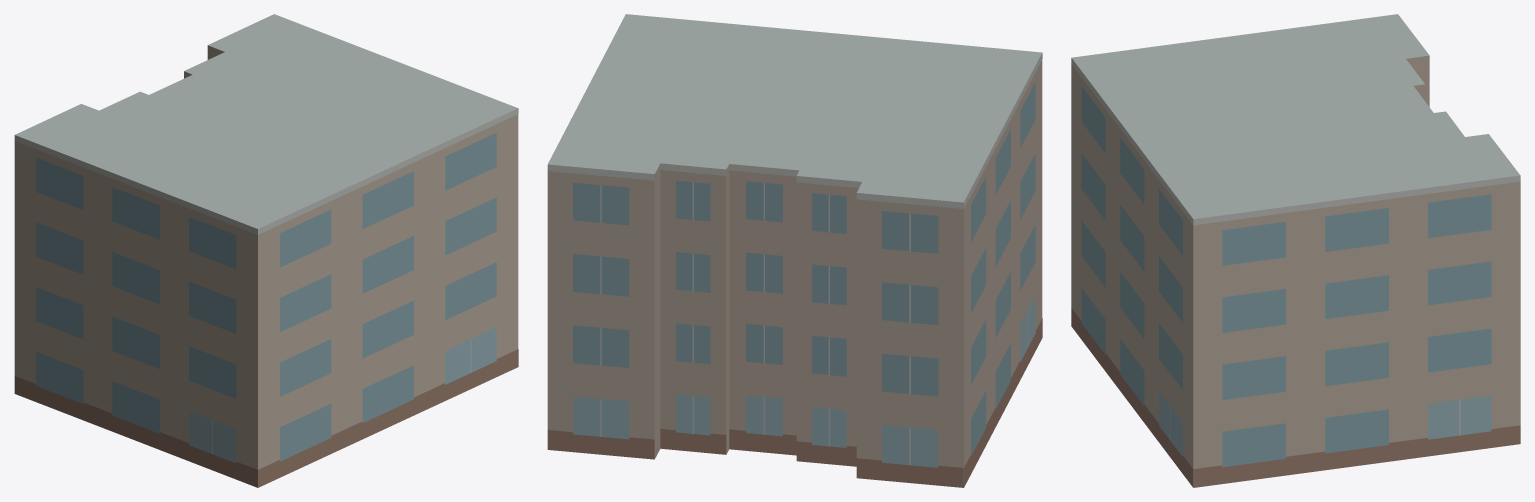
File: survey-upis-32620374.glb
3 renders of one model, left to right at view 1: azimuth 30°, elevation 25°; view 2: azimuth 150°, elevation 25°; view 3: azimuth 270°, elevation 25°, orthographic. The views are drawn at different scales.
Parts seen in each view (by area): view 1: survey-upis-32620374.tmp; view 2: survey-upis-32620374.tmp; view 3: survey-upis-32620374.tmp.
Part boxes in pixels (left/top/right/bottom): survey-upis-32620374.tmp: left=14, top=14, right=518, bottom=487; survey-upis-32620374.tmp: left=547, top=14, right=1042, bottom=487; survey-upis-32620374.tmp: left=1071, top=14, right=1520, bottom=487.
Bounding box in the file's own units: 17.54 × 10.7 × 16.22.
